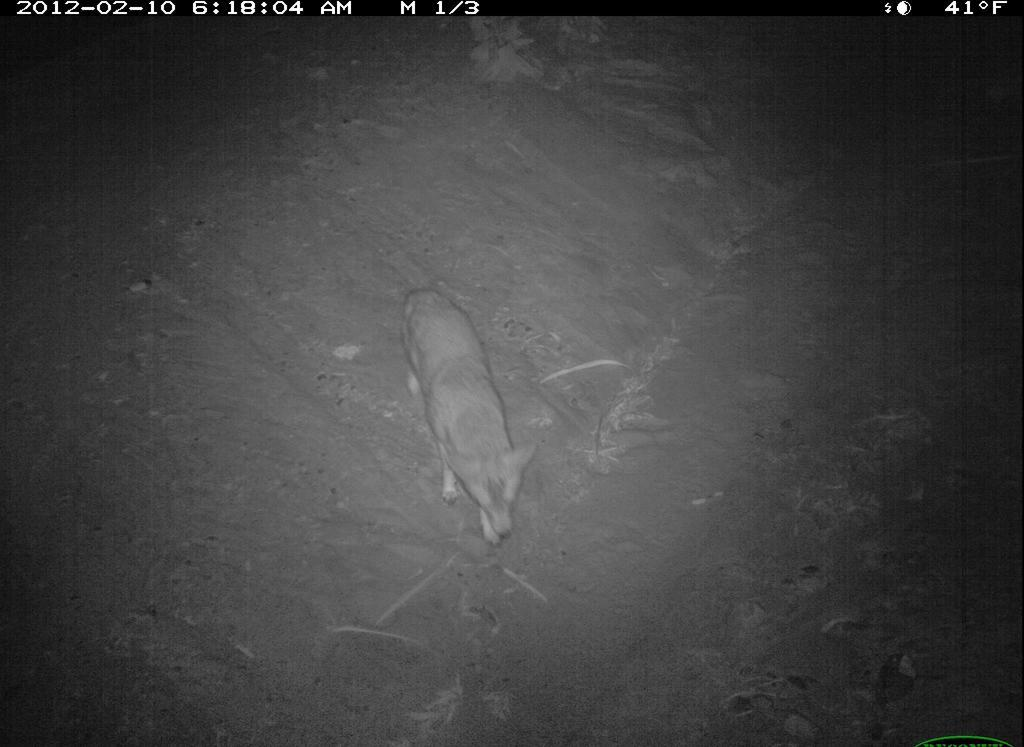coyote: (395, 283, 545, 556)
